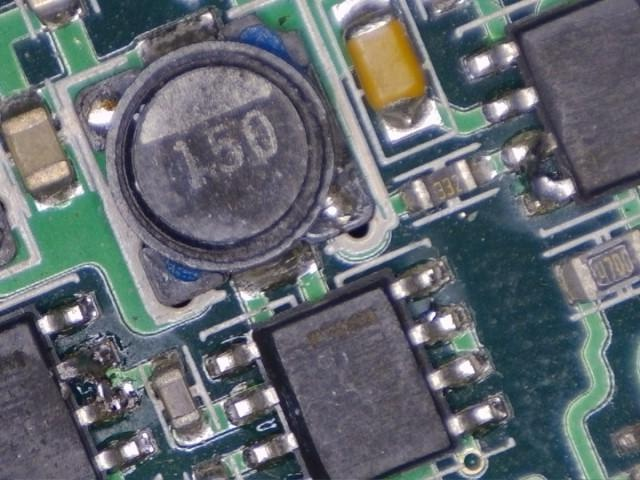pcb_defect: (387, 255, 469, 348), (56, 342, 139, 426), (501, 131, 576, 215)
